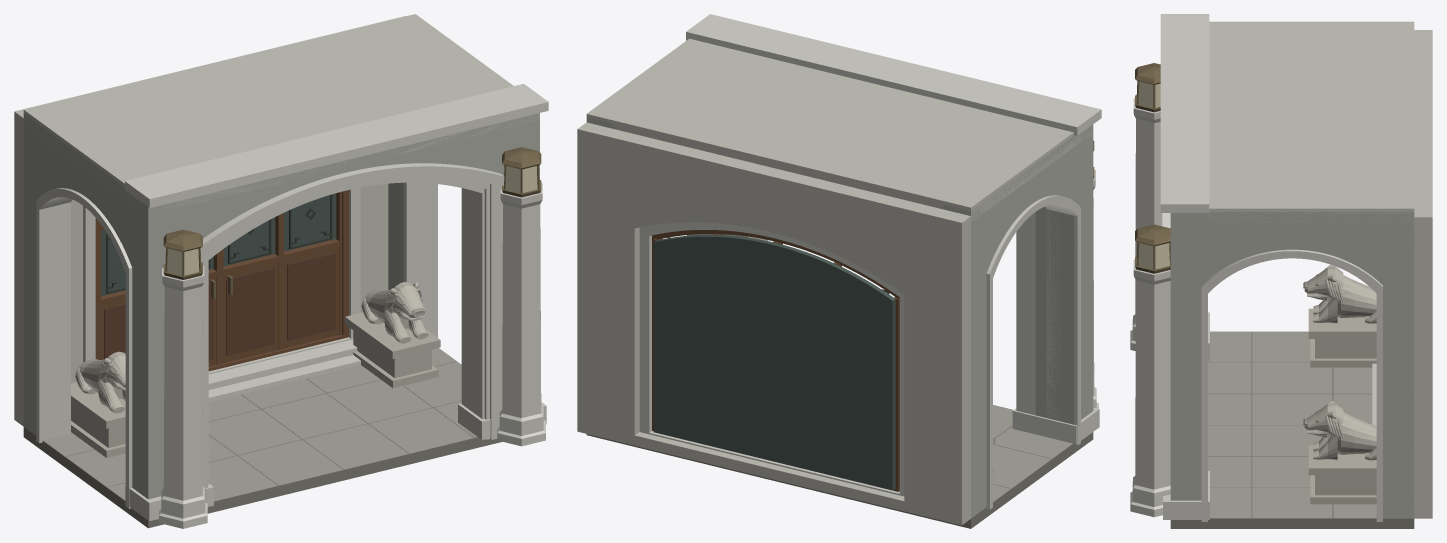
The model's file is xuhui-wuyuan-314-welfare-house-lion-portico-raw.glb.
3 renders of one model, left to right at view 1: azimuth 30°, elevation 25°; view 2: azimuth 150°, elevation 25°; view 3: azimuth 270°, elevation 25°, orthographic. The views are drawn at different scales.
Parts seen in each view (by area): view 1: 五原路314号花园住宅石狮券廊; view 2: 五原路314号花园住宅石狮券廊; view 3: 五原路314号花园住宅石狮券廊.
Boxes of the visible parts, left/top/right/bottom form: 五原路314号花园住宅石狮券廊: left=14, top=14, right=548, bottom=528; 五原路314号花园住宅石狮券廊: left=577, top=14, right=1101, bottom=528; 五原路314号花园住宅石狮券廊: left=1130, top=14, right=1432, bottom=528.
Size of the model in its own units: 5.66 by 4.52 by 3.79.
